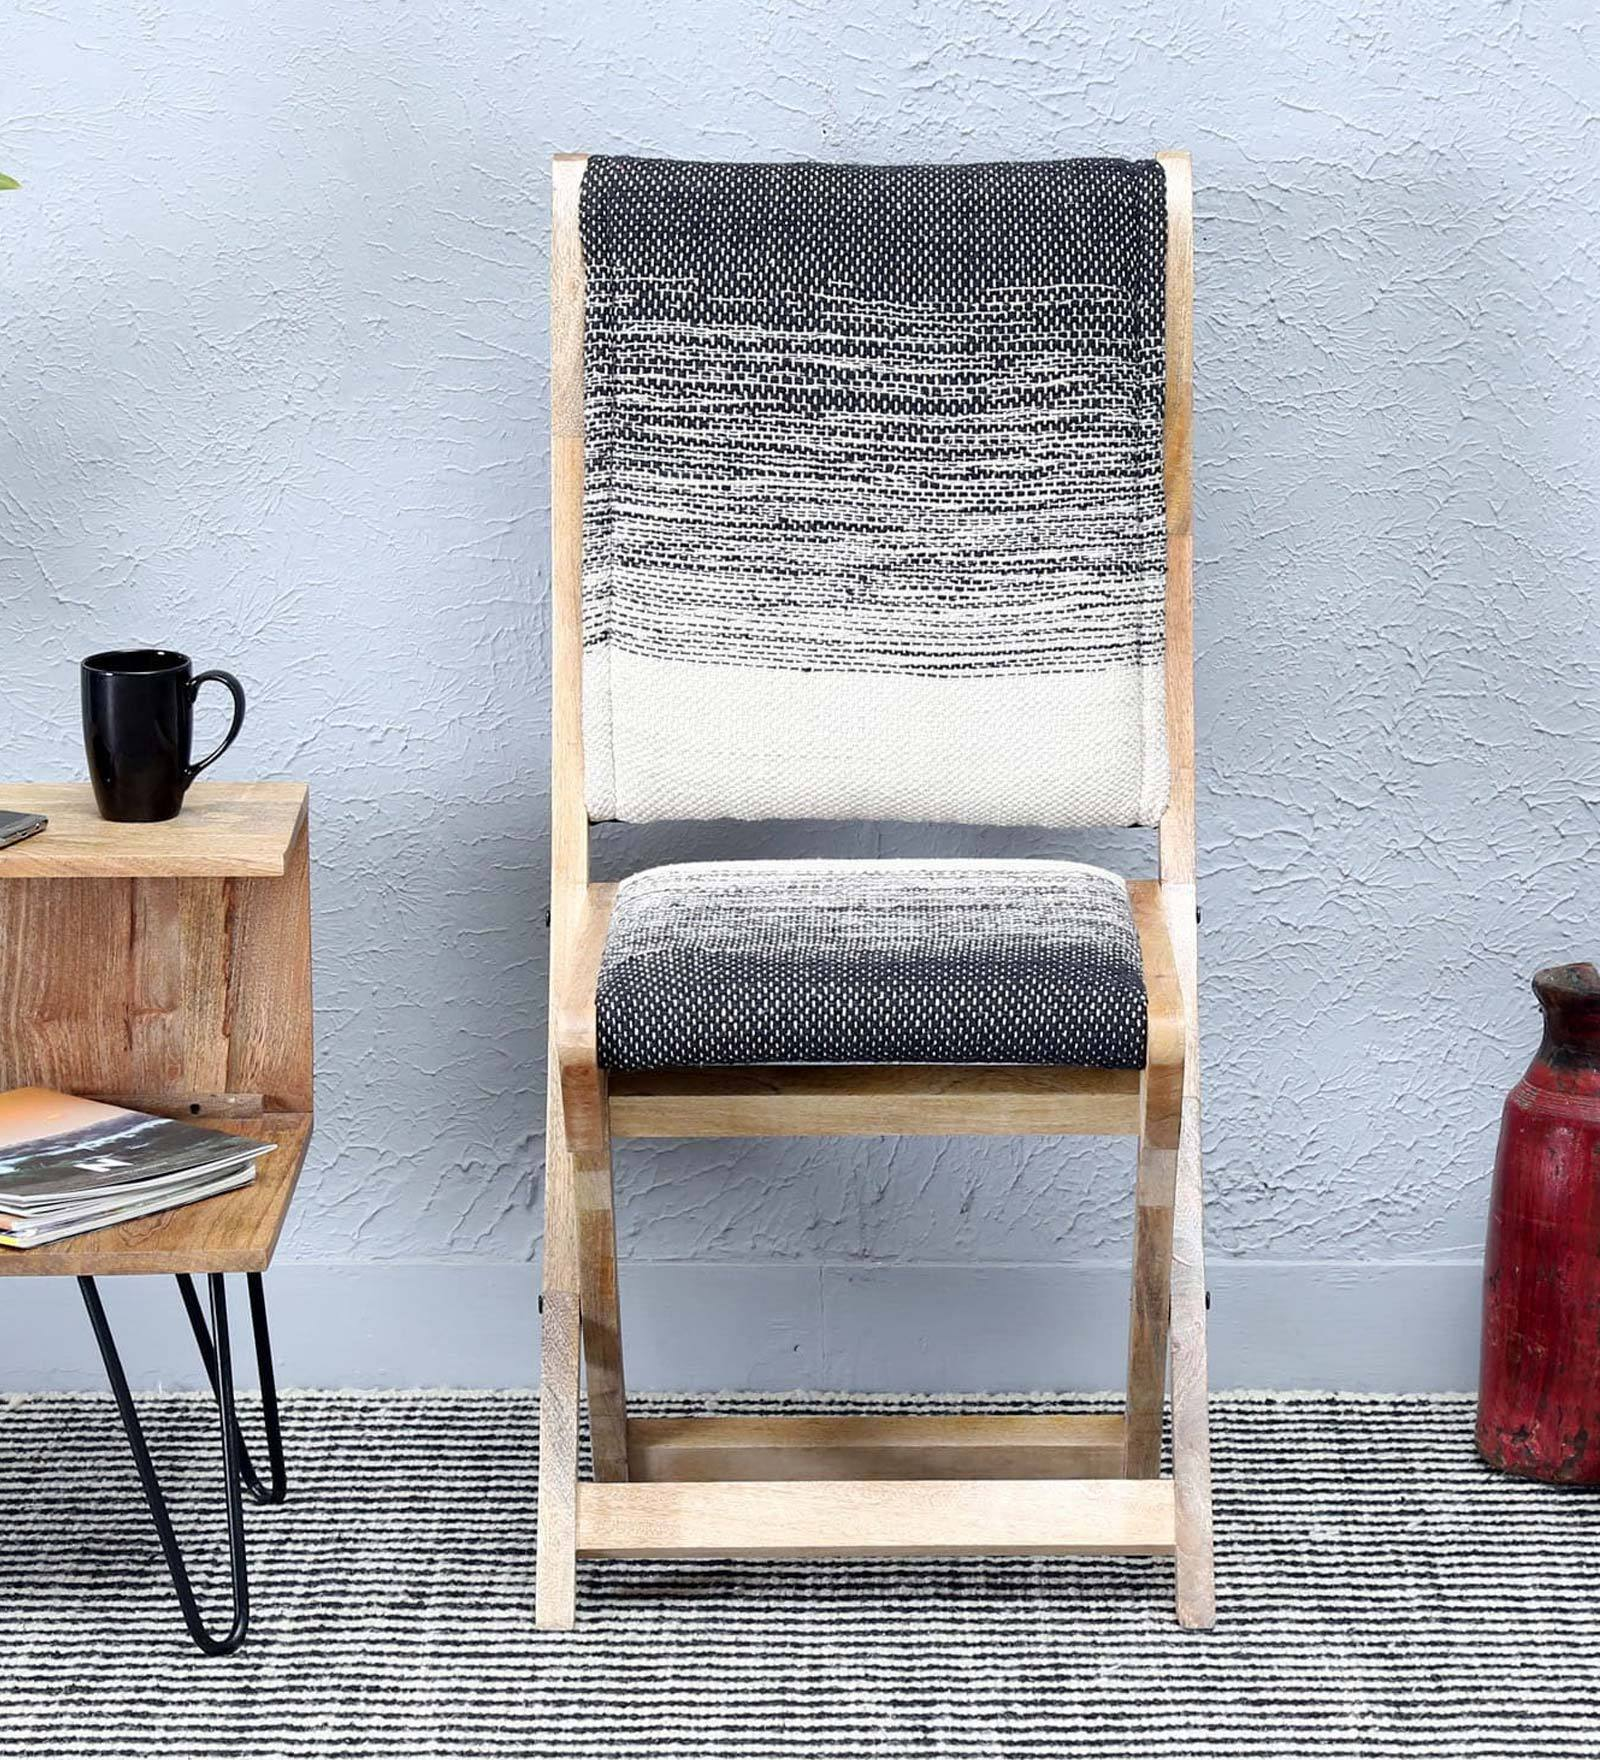Horan Folding Chair by Bohemiana: (493, 126, 1234, 1642)
